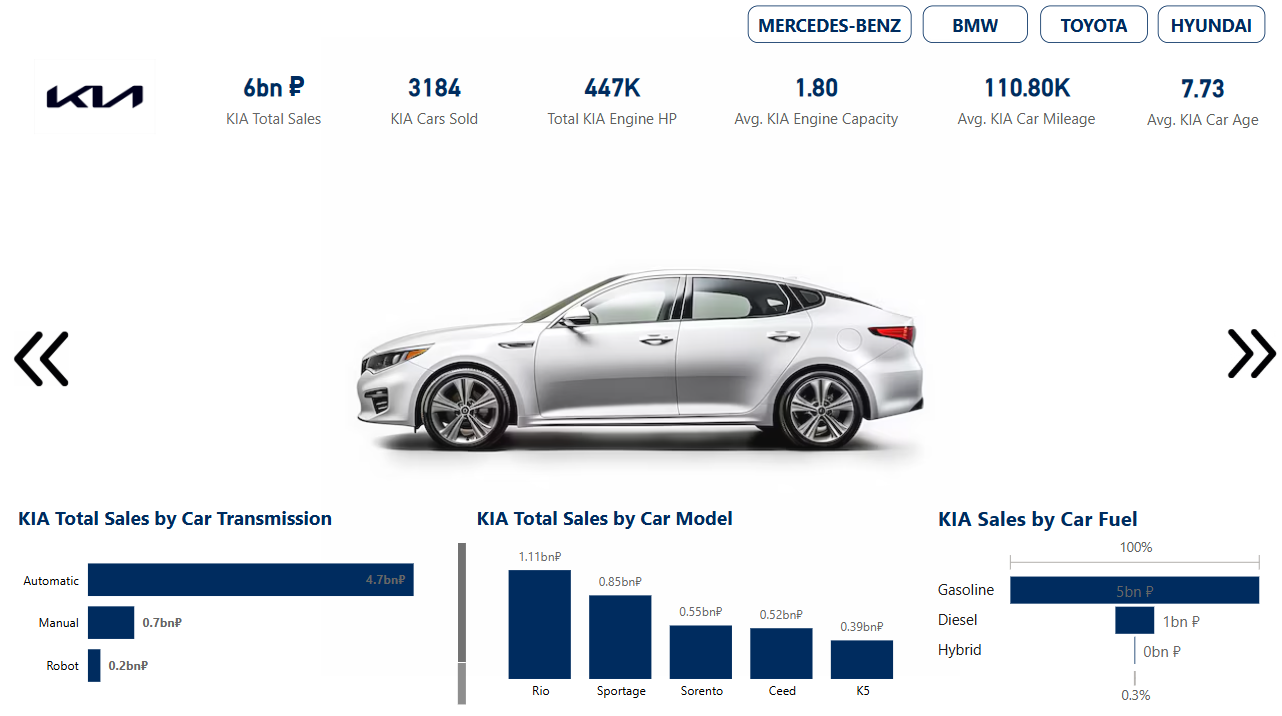

What the dashboard file says about the page in this screenshot:
{"tool":"powerbi","page":{"name":"KIA","canvas":[1280,720],"ordinal":3},"visuals":[{"type":"card","fields":{"Values":["Sum(car_data.Car Price)"]},"box":[206.5,65.8,146.8,71.4],"z":0},{"type":"card","fields":{"Values":["Sum(car_data.Car Engine HP)"]},"box":[522.1,65.8,178.4,71.4],"z":1000},{"type":"card","fields":{"Values":["car_data.Avg. Car Engine Capacity"]},"box":[709.4,65.8,205.8,71.4],"z":2000},{"type":"card","fields":{"Values":["car_data.Average Car Age"]},"box":[1114.2,64.5,155.1,75.5],"z":3000},{"type":"barChart","fields":{"Category":["car_data.Car Transmission"],"Y":["Sum(car_data.Car Price)"]},"box":[23.3,502.2,450.1,201.7],"z":4000},{"type":"columnChart","fields":{"Category":["car_data.Car Model"],"Y":["Sum(car_data.Car Price)"]},"box":[473.4,502.2,452.8,201.7],"z":5000},{"type":"funnel","fields":{"Category":["car_data.Car Fuel"],"Y":["Sum(car_data.Car Price)"]},"box":[926.2,502.2,330.7,201.7],"z":6000},{"type":"card","fields":{"Values":["car_data.Avg. Car Mileage"]},"box":[924.2,61,189.4,81],"z":7000},{"type":"card","fields":{"Values":["CountNonNull(car_data.Car Brand)"]},"box":[362.3,65.8,150.9,71.4],"z":8000},{"type":"shape","box":[916.6,12.3,102.9,37],"z":9000},{"type":"shape","box":[1031.9,12.3,105.7,37],"z":10000},{"type":"shape","box":[1147.2,12.3,105.7,37],"z":11000},{"type":"shape","box":[745.1,12.3,160.5,37],"z":12000},{"type":"image","box":[9.6,59.6,188,83.7],"z":14001},{"type":"image","box":[19.2,325.2,63.1,68.6],"z":14002},{"type":"image","box":[1200.4,325.2,79.6,57.6],"z":14003}]}

Visuals, with their boxes in screenshot pixels (x1, y1, x2, y2), scaled from the page's 1280x720 canvas onto the 1282x716 screenshot:
card - Sum(car_data.Car Price): crop(207, 65, 354, 136)
card - Sum(car_data.Car Engine HP): crop(523, 65, 702, 136)
card - car_data.Avg. Car Engine Capacity: crop(711, 65, 917, 136)
card - car_data.Average Car Age: crop(1116, 64, 1271, 139)
barChart - car_data.Car Transmission x Sum(car_data.Car Price): crop(23, 499, 474, 700)
columnChart - car_data.Car Model x Sum(car_data.Car Price): crop(474, 499, 928, 700)
funnel - car_data.Car Fuel x Sum(car_data.Car Price): crop(928, 499, 1259, 700)
card - car_data.Avg. Car Mileage: crop(926, 61, 1115, 141)
card - CountNonNull(car_data.Car Brand): crop(363, 65, 514, 136)
shape: crop(918, 12, 1021, 49)
shape: crop(1034, 12, 1139, 49)
shape: crop(1149, 12, 1255, 49)
shape: crop(746, 12, 907, 49)
image: crop(10, 59, 198, 143)
image: crop(19, 323, 82, 392)
image: crop(1202, 323, 1281, 381)
